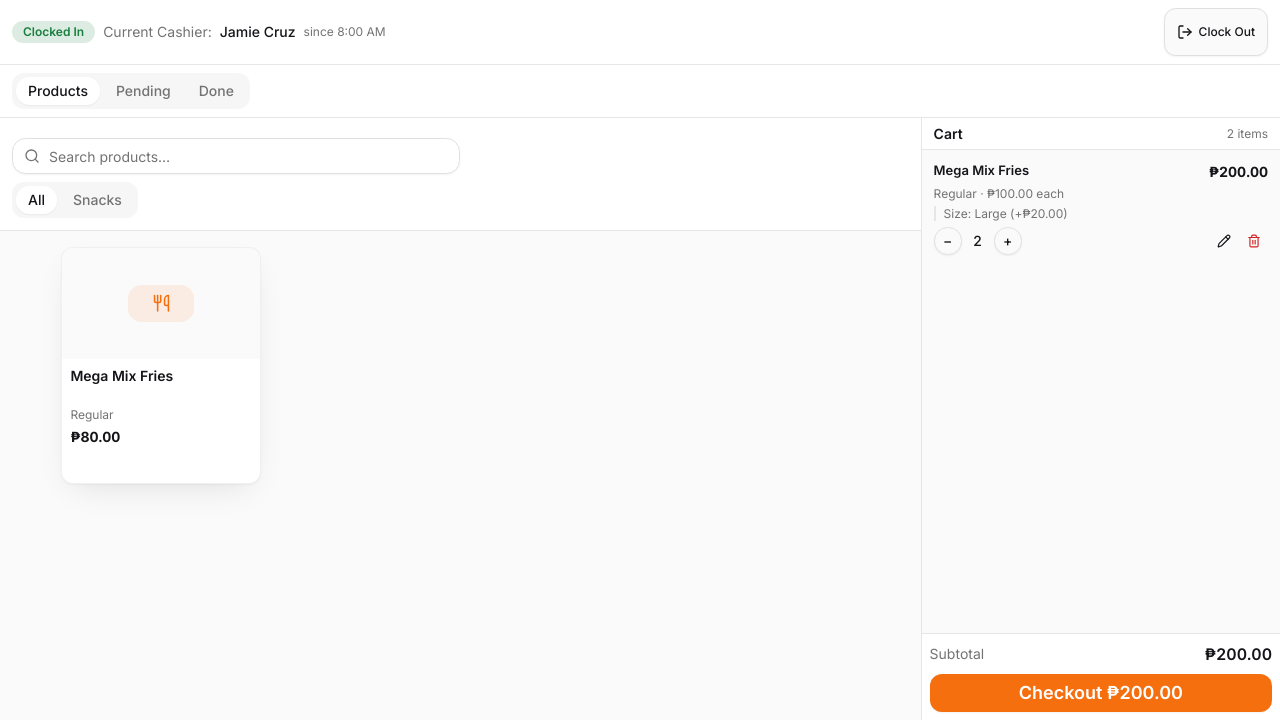
Test: TerminalPage — Edit reuses the Add-ons dialog to change a cart line (Task 108) › preloads the dialog with the cart line current option selection (not quantity), and labels the confirm button Save
Click the button named "Edit".
click(1224, 241)  # box [1210, 227, 1238, 255]
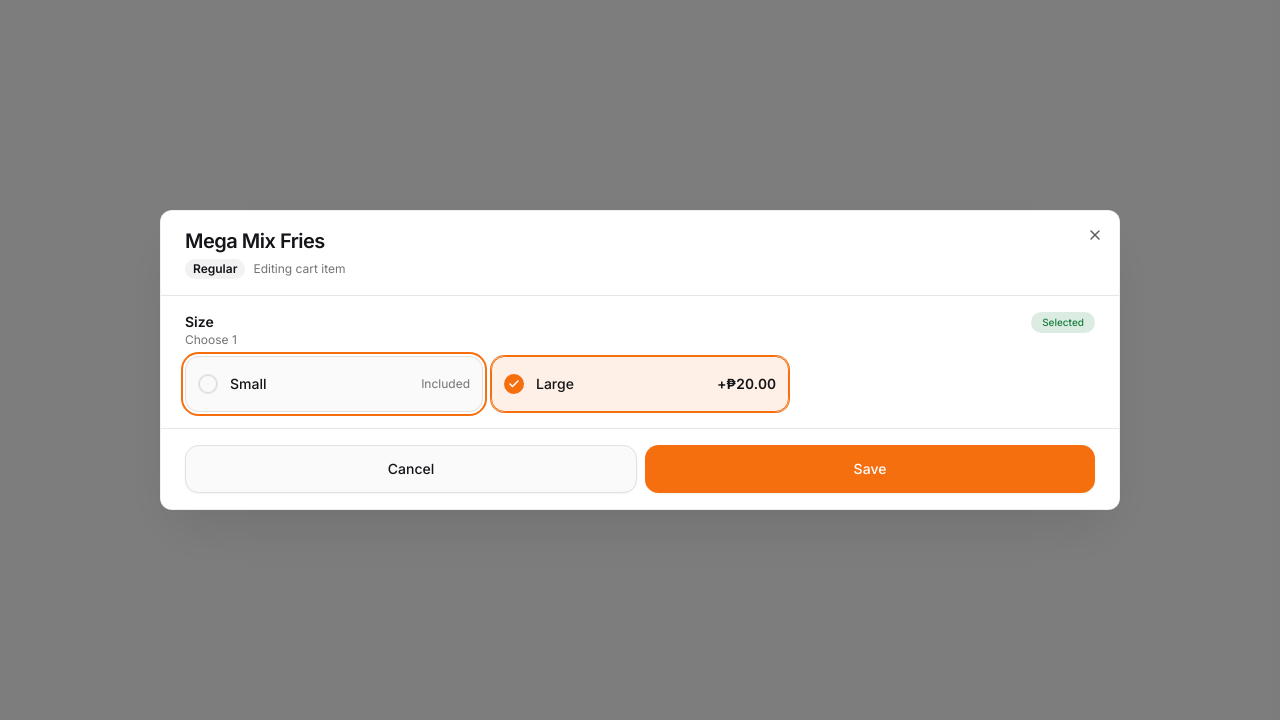
Expected: the button "Large +₱20.00" is shown, [491, 356, 789, 412]
Expected: the button "Save" is enabled, [645, 445, 1095, 493]
